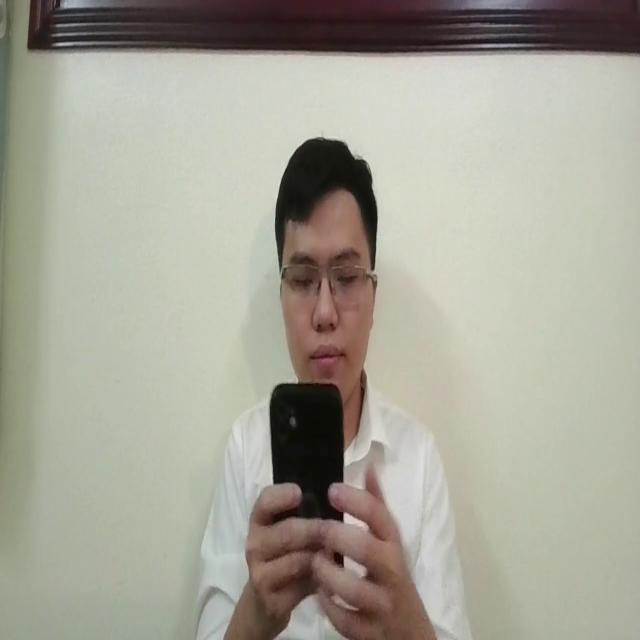phone: (267, 378, 351, 584)
student: (196, 119, 470, 640)
